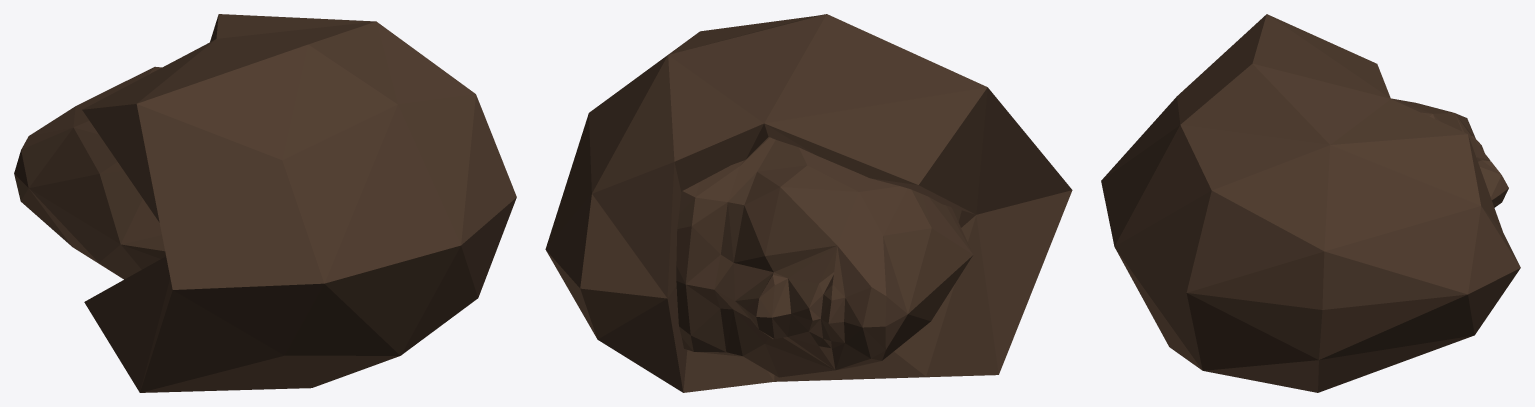
The model's file is HUM_HEAD_BABEHAIR.OBJ.
3 views of the same model, side by side, from view 1: azimuth 30°, elevation 25°; view 2: azimuth 150°, elevation 25°; view 3: azimuth 270°, elevation 25° (orthographic). The views are drawn at different scales.
Parts seen in each view (by area): view 1: HUM_HEAD_BABEHAIR; view 2: HUM_HEAD_BABEHAIR; view 3: HUM_HEAD_BABEHAIR.
Boxes of the visible parts, bbox=[...] form: HUM_HEAD_BABEHAIR: bbox=[14, 14, 516, 392]; HUM_HEAD_BABEHAIR: bbox=[545, 14, 1072, 392]; HUM_HEAD_BABEHAIR: bbox=[1101, 14, 1520, 392].
Bounding box in the file's own units: 0.2819 × 0.2346 × 0.2921.
